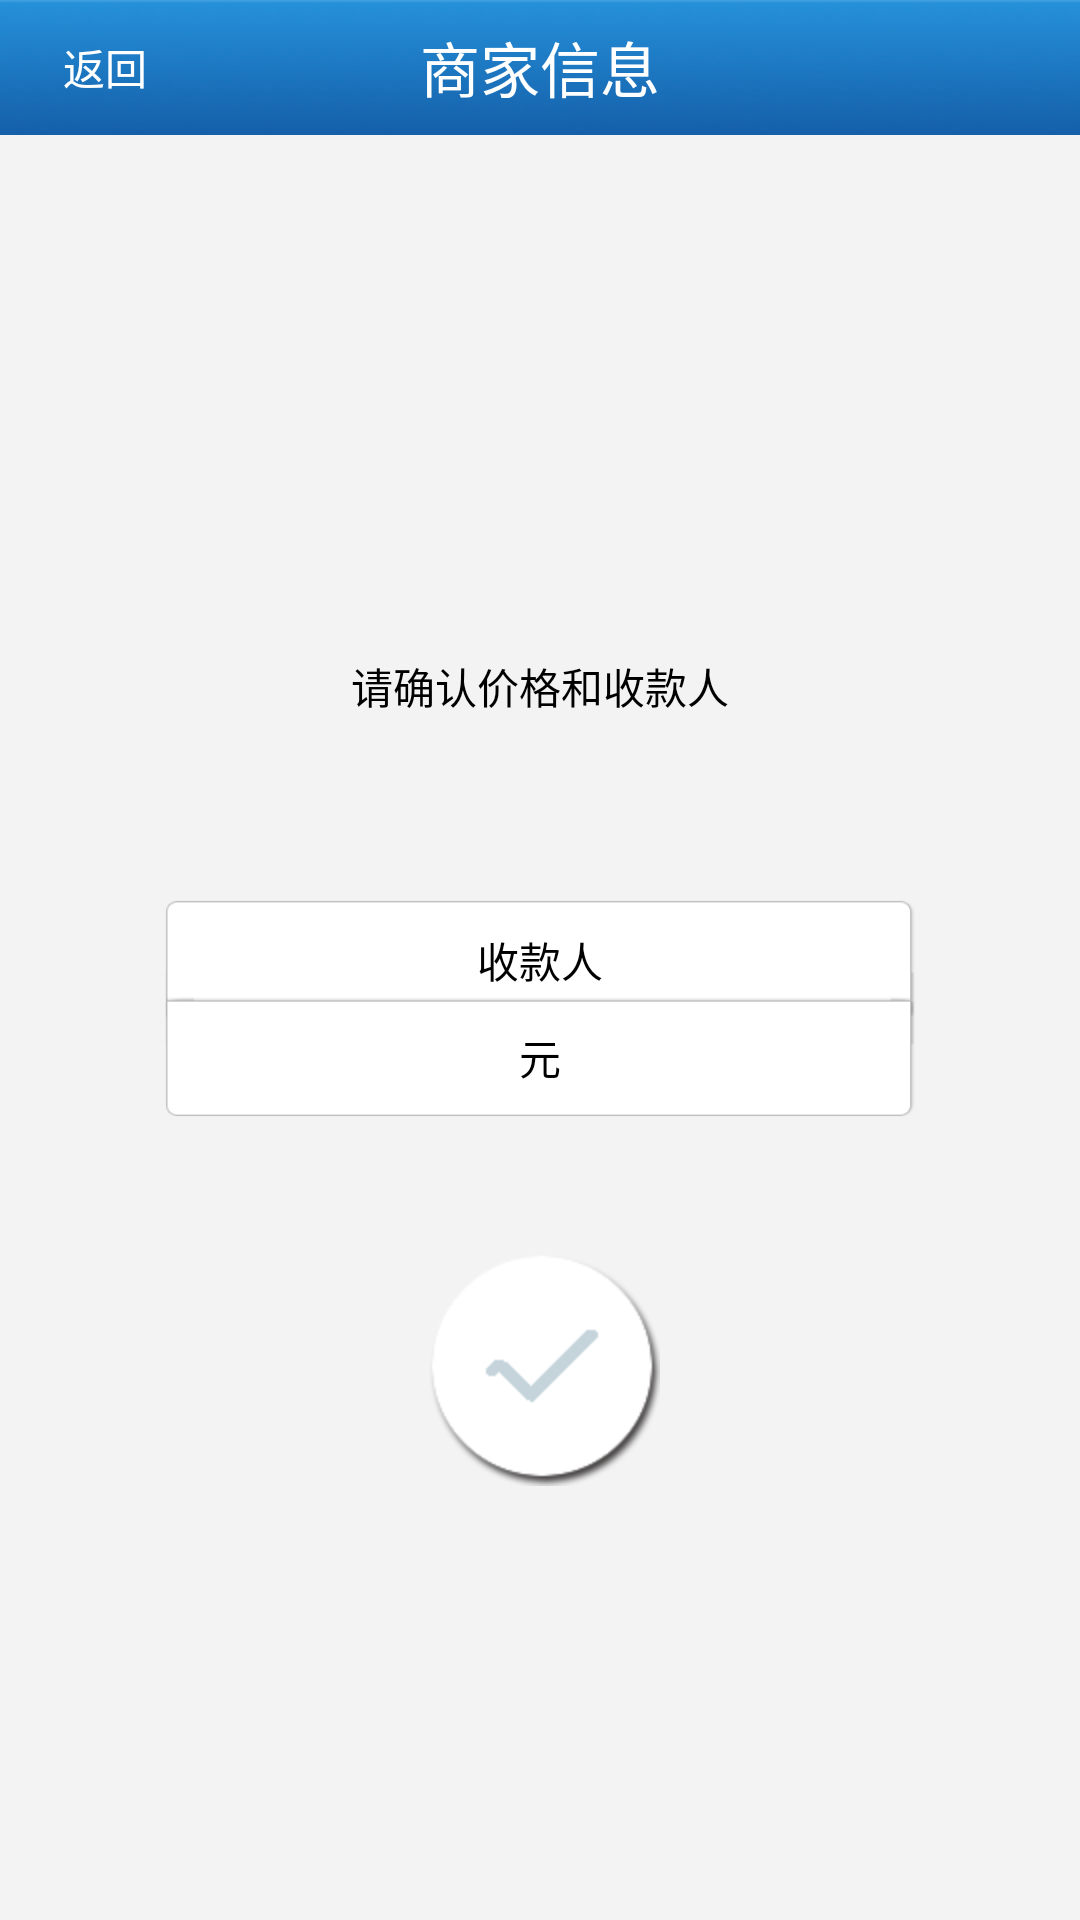

Icons on this 1080x1920 Android screen, each with its box as [left=x1, top=y1, right=x2, bottom=y2]:
tabs confirm: [left=431, top=1256, right=660, bottom=1486]
